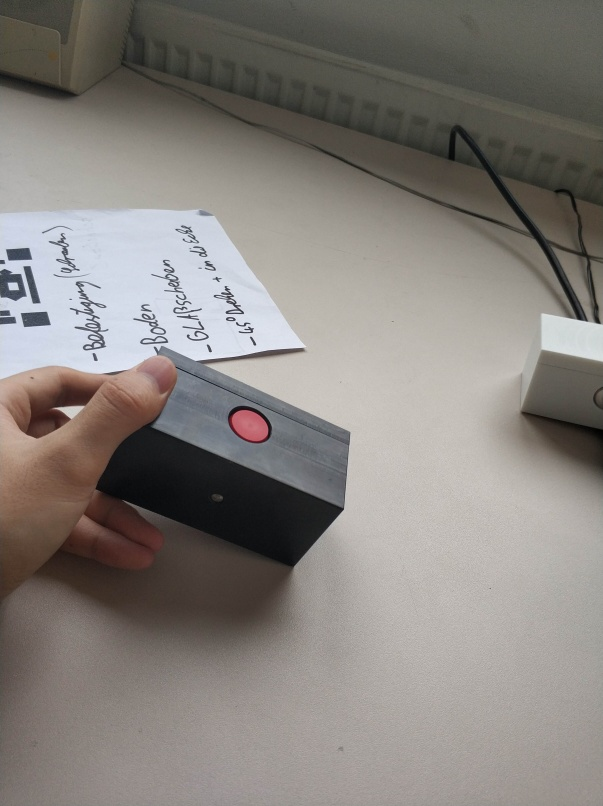black+black+red: (96, 344, 352, 573)
white+white+silver: (519, 313, 603, 433)
